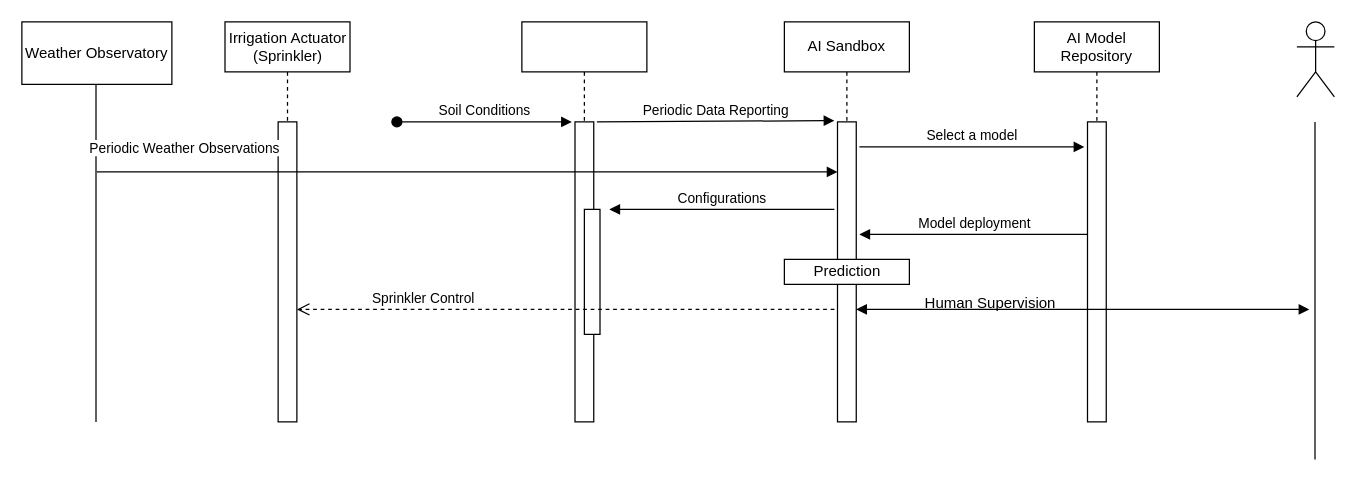
The diagram is 1359 pixels wide and 483 high, and some of its shapes have lost their labels. Here are the shapes that lost their labels. From the top down, the box of each, then its label:
(521, 21, 647, 122): Soil Sensor
(1296, 21, 1334, 97): Expert
